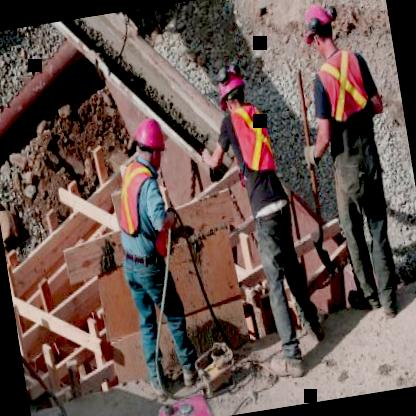helmet: (297, 0, 338, 57), (124, 113, 167, 167), (212, 60, 252, 117)
